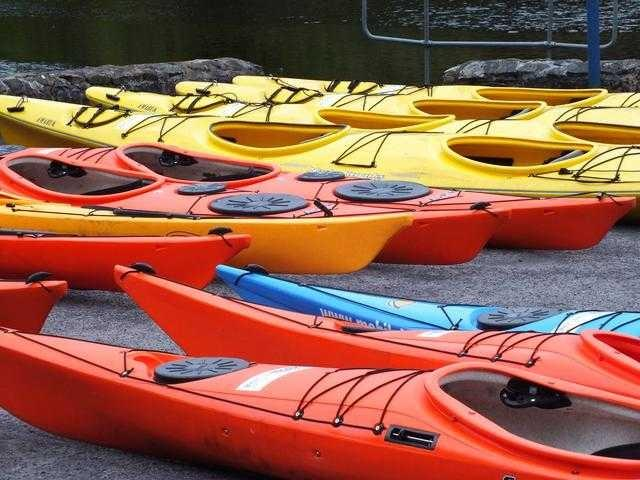kayak: (0, 327, 636, 479), (2, 142, 508, 276), (113, 264, 638, 385), (0, 90, 357, 166), (322, 131, 639, 206), (319, 107, 635, 175), (1, 230, 251, 291), (324, 90, 626, 135), (0, 272, 69, 334), (554, 116, 640, 146)
